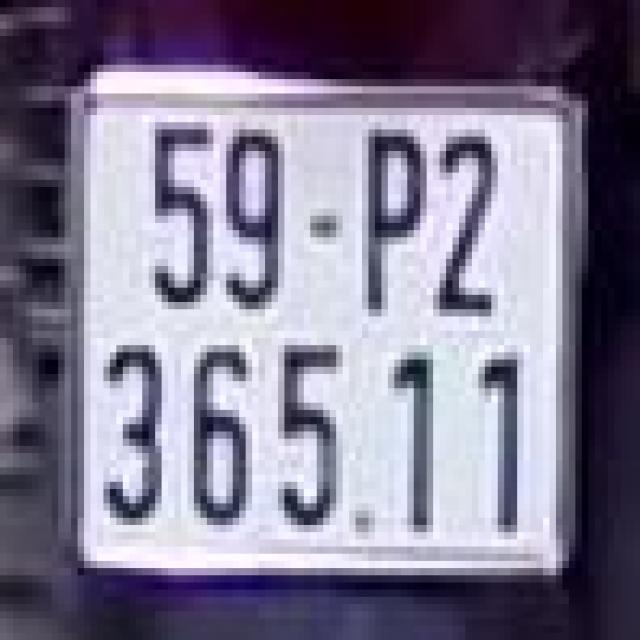1: (459, 338, 543, 539), (378, 334, 449, 543)
2: (433, 129, 504, 331)
3: (87, 342, 178, 522)
5: (136, 111, 213, 313), (275, 334, 352, 528)
6: (178, 334, 262, 543)
9: (213, 115, 291, 309)
P: (352, 122, 430, 331)
